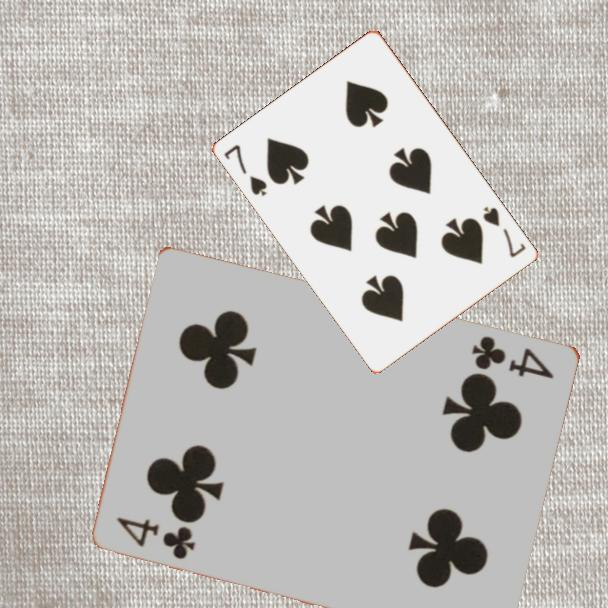c04: (468, 332, 558, 381), (114, 513, 199, 562)
s07: (220, 141, 270, 199), (480, 203, 529, 260)
